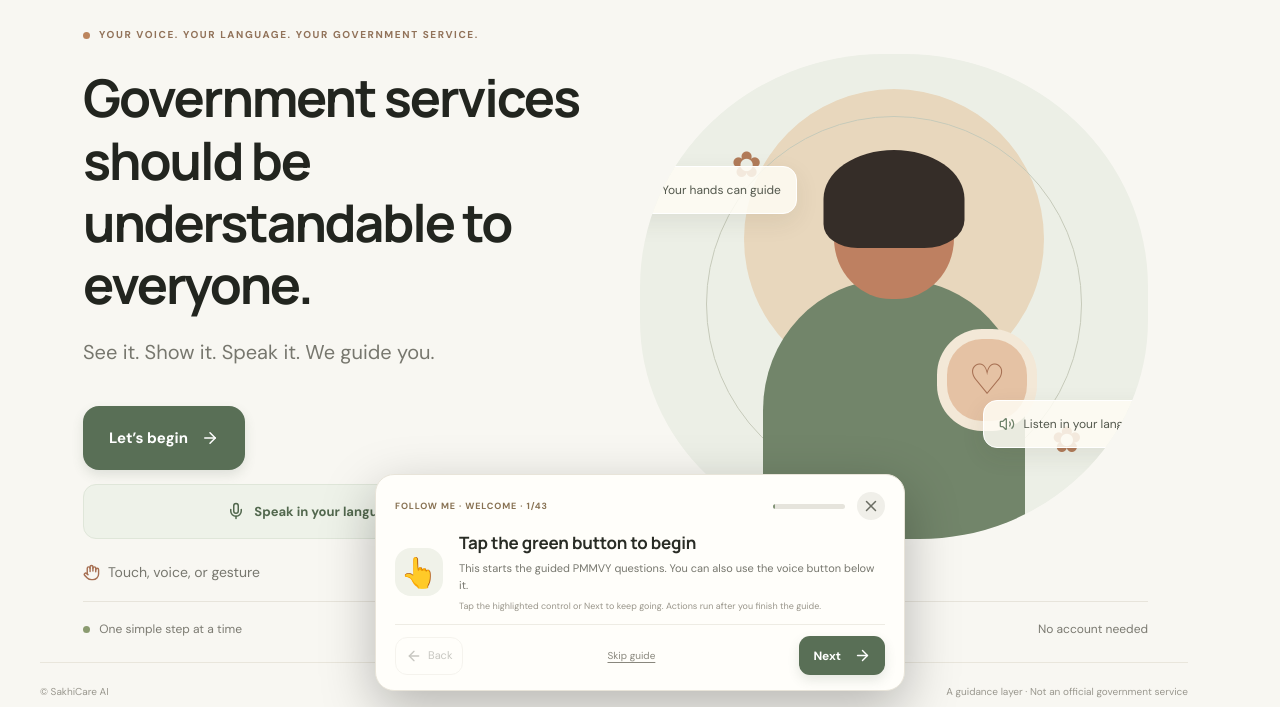
Test case: SakhiCare guided journey › shows an animated browser microphone Allow example in the guide
The image size is (1280, 707).
(page scrolled)
Click the button named "skip guide": [871, 506] box left=857, top=492, right=885, bottom=520
(page scrolled)
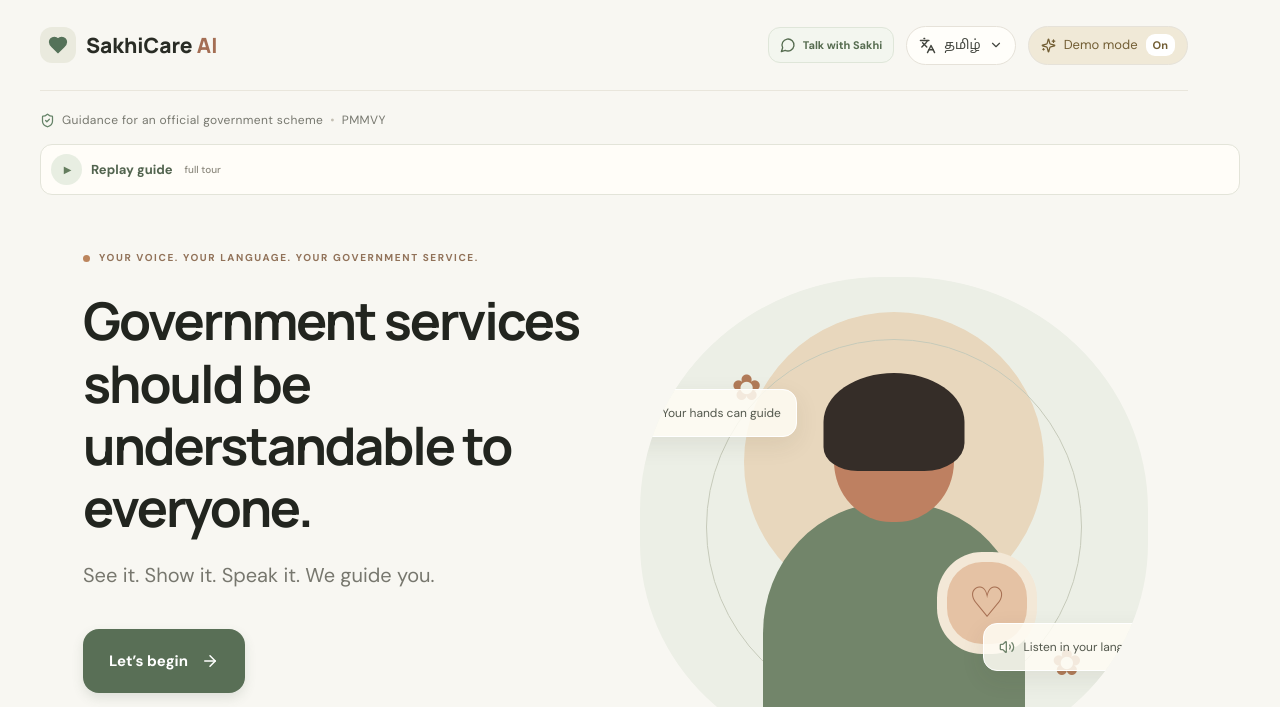
Click the button "▶ Replay guide full tour": [66, 170] box left=40, top=144, right=1240, bottom=195
(page scrolled)
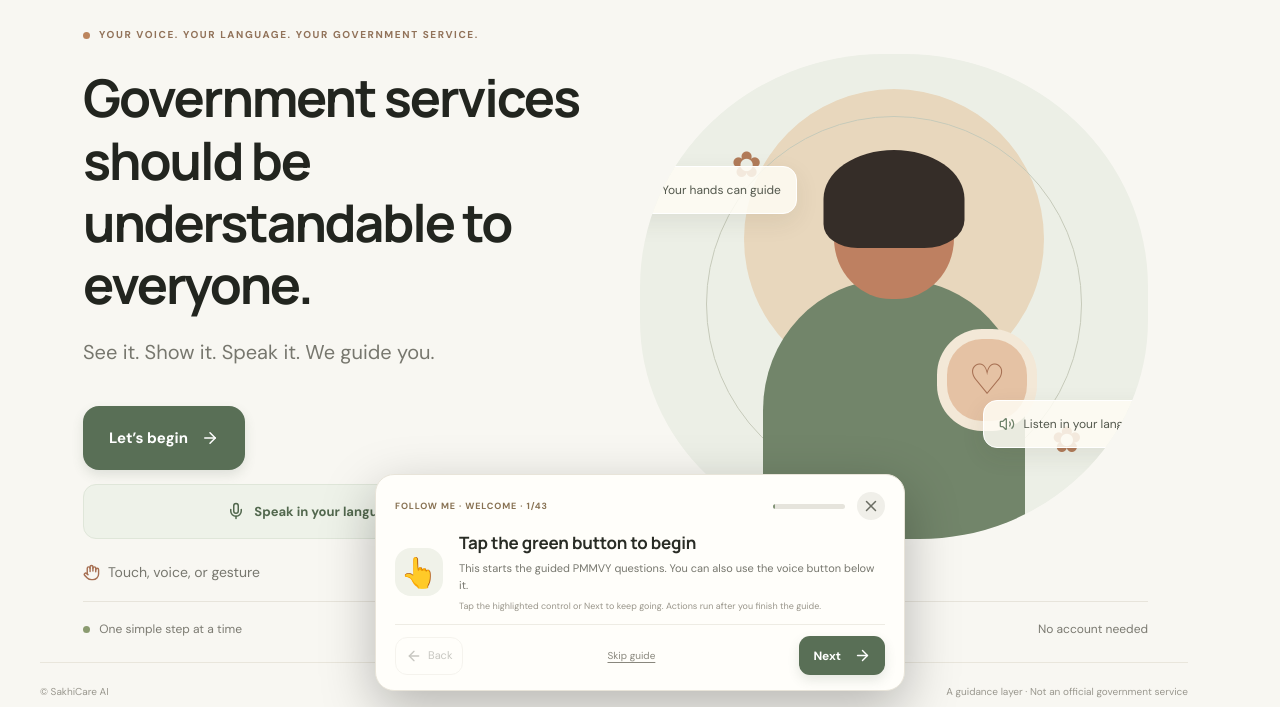
Click the button with class "guideNext": [842, 656] box left=799, top=636, right=885, bottom=675
(page scrolled)
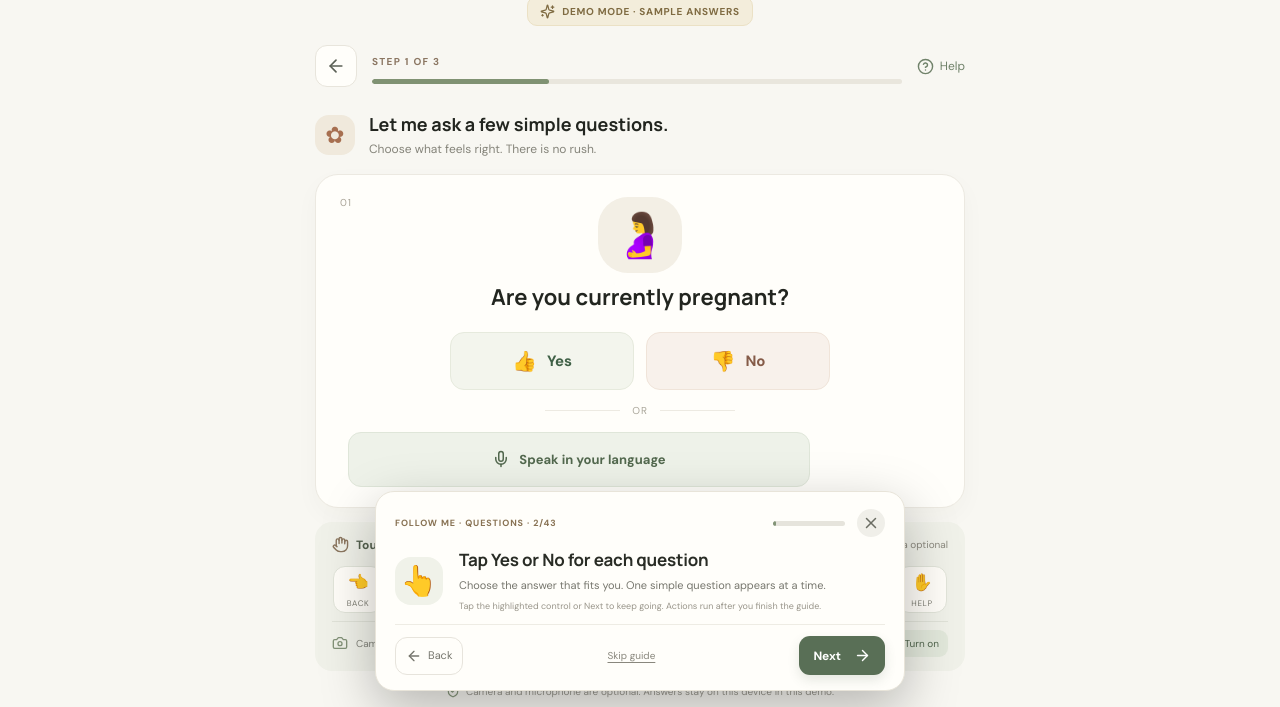
Click the button with class "guideNext": [842, 656] box left=799, top=636, right=885, bottom=675
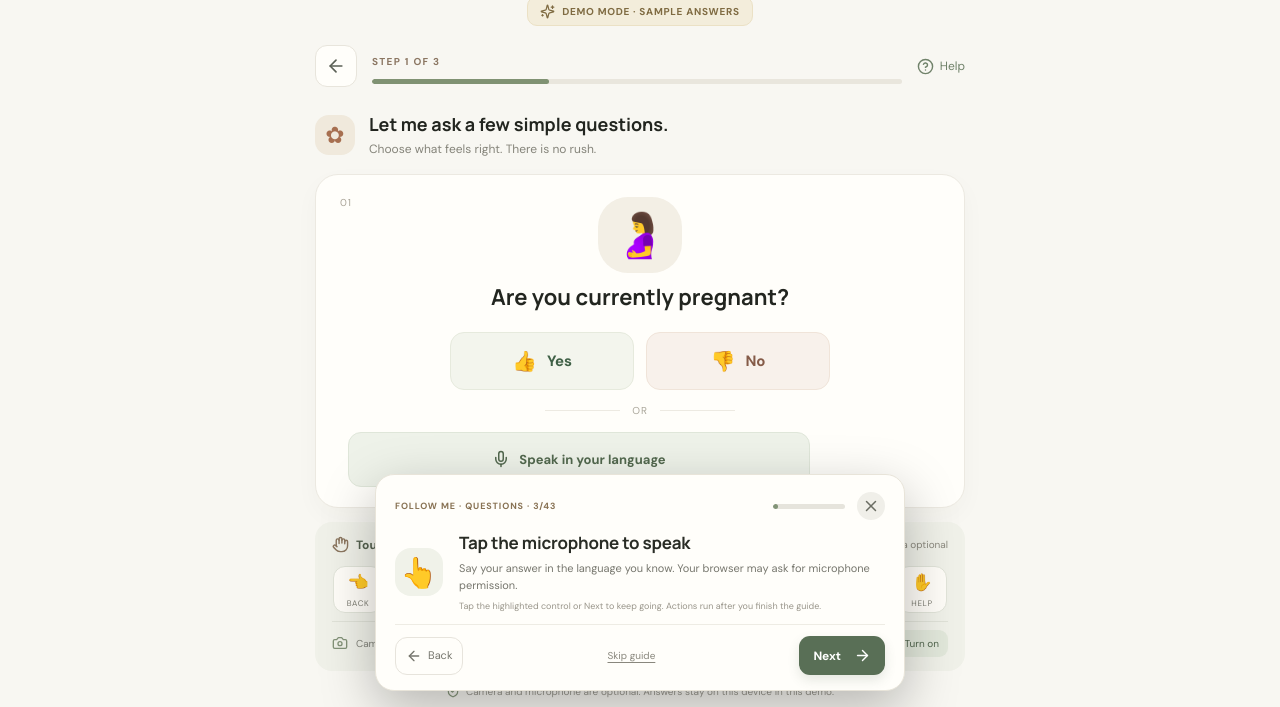
Click the button with class "guideNext": [842, 656] box left=799, top=636, right=885, bottom=675
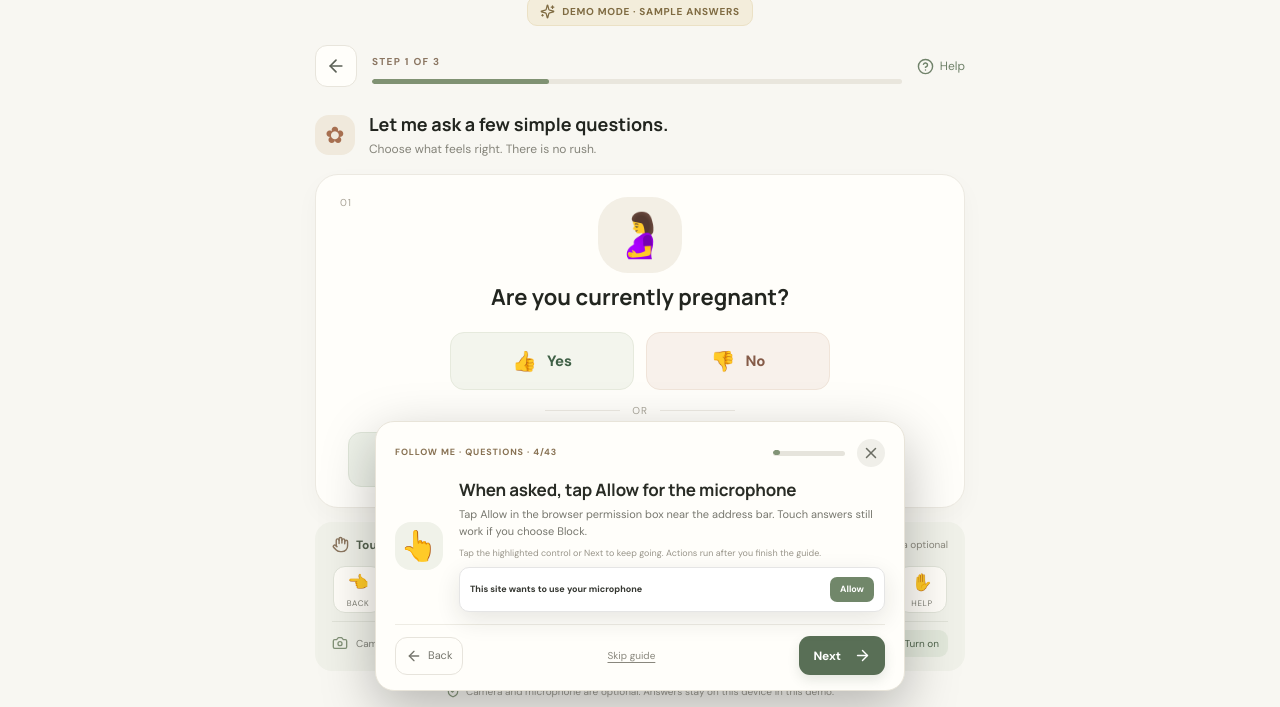
Check: the dialog shows "Allow for the microphone", box left=459, top=478, right=796, bottom=501
Check: the text "This site wants to use your microphone" is shown, box left=470, top=583, right=642, bottom=596
Check: the text "Allow" is shown, box left=830, top=577, right=874, bottom=602
